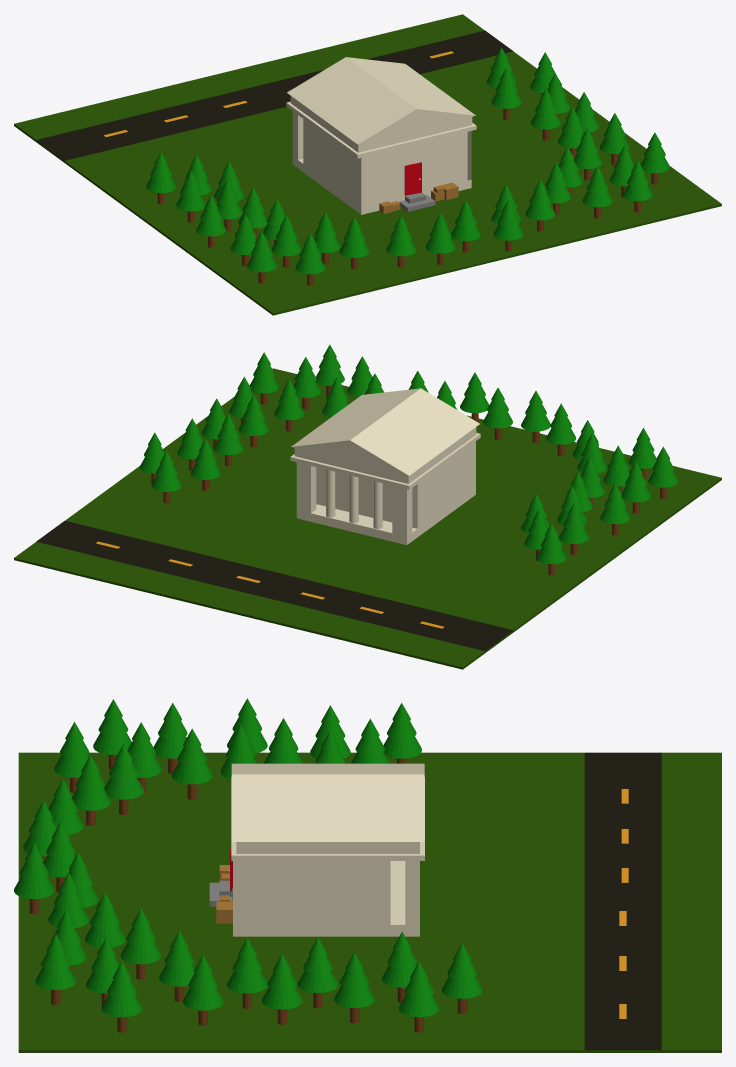
The model's file is museumout.gltf.
3 views of the same model, one above another, from view 1: azimuth 30°, elevation 25°; view 2: azimuth 150°, elevation 25°; view 3: azimuth 270°, elevation 25° (orthographic). The views are drawn at different scales.
Parts seen in each view (by area): view 1: Cube, Cube.012, Circle, Cube.001, Cube.010, Cube.009, Cube.011; view 2: Cube, Cube.012, Circle, Cube.001, Cube.010, Cube.009; view 3: Cube, Cube.012, Circle, Cube.001, Cube.010, Cube.009, Cone.060, Cone.045, Cone.012, Cone.104, Cone.084, Cone.081 (+12 smaller).
Boxes of the visible parts, x1=… form: Cube: x1=14, y1=14, x2=721, y2=315; Cube.012: x1=36, y1=30, x2=512, y2=160; Circle: x1=287, y1=57, x2=475, y2=144; Cube.001: x1=292, y1=111, x2=471, y2=214; Cube.010: x1=290, y1=96, x2=472, y2=152; Cube.009: x1=286, y1=101, x2=476, y2=158; Cube.011: x1=404, y1=162, x2=421, y2=195; Cube: x1=14, y1=368, x2=721, y2=669; Cube.012: x1=36, y1=521, x2=513, y2=650; Circle: x1=291, y1=388, x2=479, y2=475; Cube.001: x1=296, y1=441, x2=475, y2=544; Cube.010: x1=294, y1=427, x2=476, y2=483; Cube.009: x1=290, y1=433, x2=480, y2=489; Cube: x1=18, y1=752, x2=721, y2=1052; Cube.012: x1=584, y1=752, x2=661, y2=1049; Circle: x1=231, y1=763, x2=424, y2=841; Cube.001: x1=233, y1=861, x2=419, y2=936; Cube.010: x1=236, y1=842, x2=419, y2=853; Cube.009: x1=231, y1=777, x2=424, y2=860; Cone.060: x1=262, y1=987, x2=302, y2=1009; Cone.045: x1=227, y1=971, x2=267, y2=993; Cone.012: x1=172, y1=762, x2=212, y2=784; Cone.104: x1=35, y1=967, x2=76, y2=989; Cone.084: x1=442, y1=976, x2=482, y2=998; Cone.081: x1=101, y1=995, x2=142, y2=1017.
Size of the model in its own units: 22.62 by 4.57 by 22.78.
